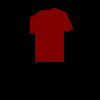abbigliamento_uomo: (29, 7, 73, 62)
